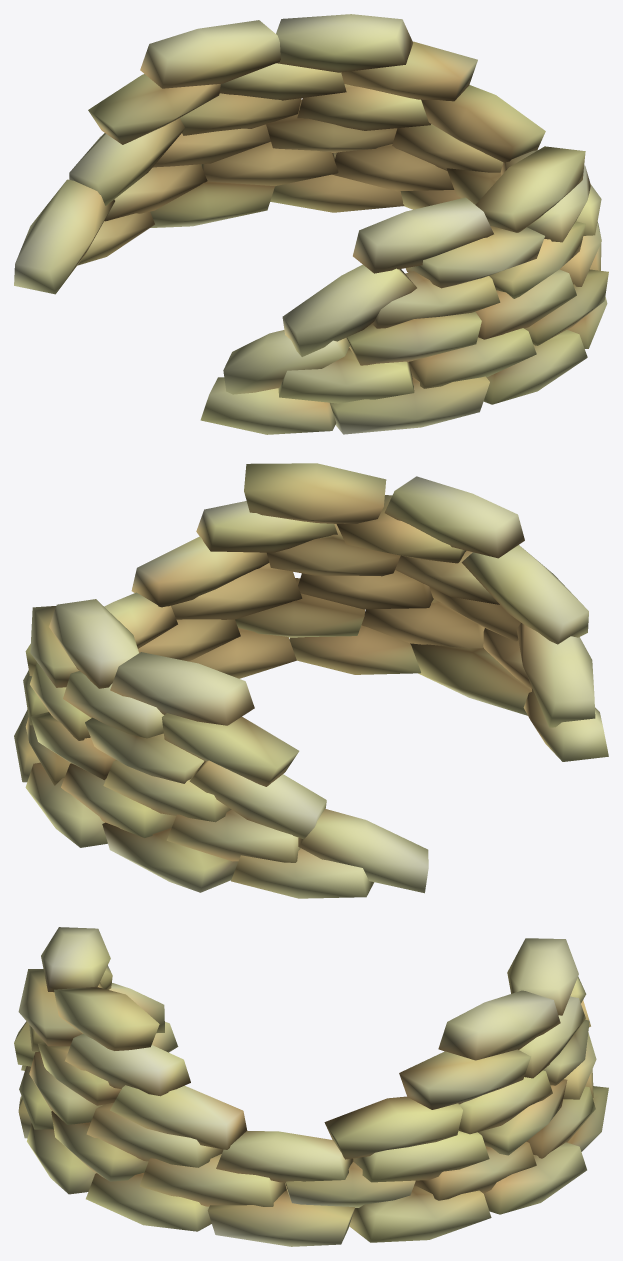
File: sandbags_01_nest_b.dae
3 views of the same model, one above another, from view 1: azimuth 30°, elevation 25°; view 2: azimuth 150°, elevation 25°; view 3: azimuth 270°, elevation 25° (orthographic). The views are drawn at different scales.
Visible parts, largest first — view 1: sandbagsnb10; view 2: sandbagsnb10; view 3: sandbagsnb10.
Part boxes in pixels (x1,y1,x2,y2): sandbagsnb10: (14,14,608,434); sandbagsnb10: (14,463,608,898); sandbagsnb10: (14,927,608,1246).
Size of what is drawn, in the model's own units: 2.7 by 3.1 by 1.14.
